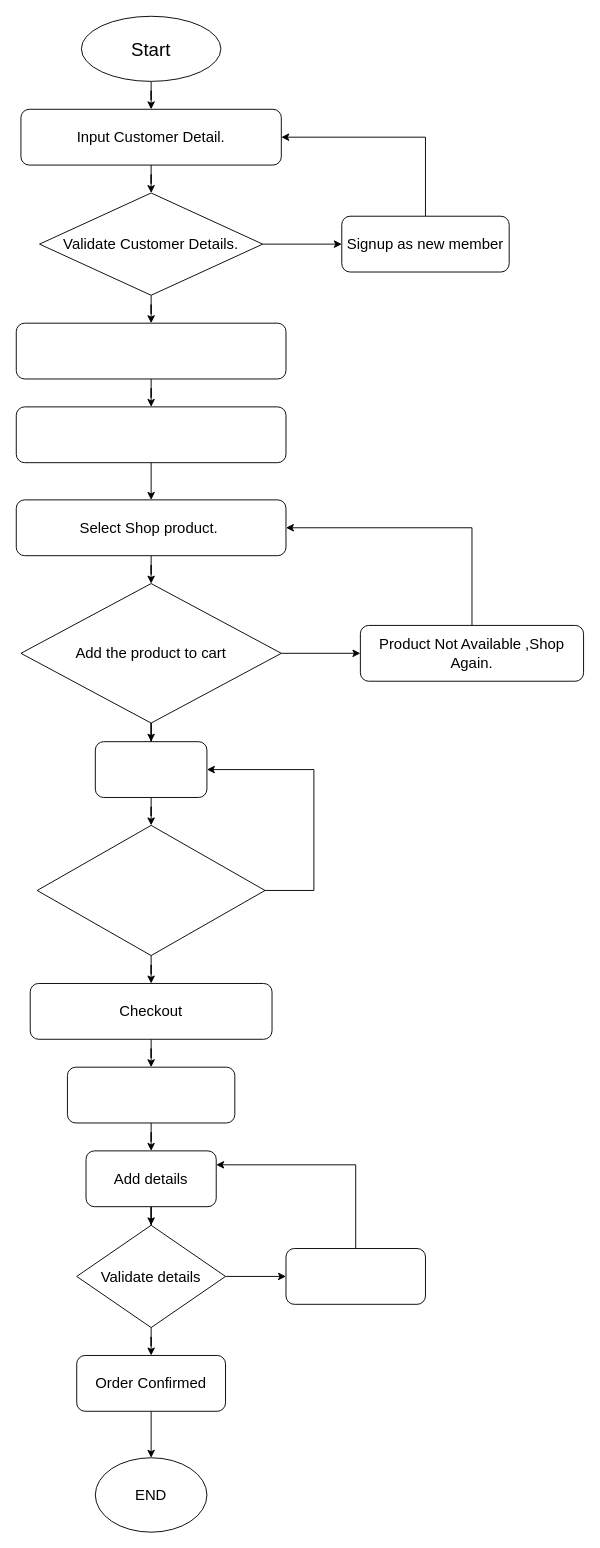
The diagram is 600 pixels wide and 1548 high, and some of its shapes have lost their labels. The centre of each missing label's shape, as x and y in pixels:
"Apply Discount if available." goes at point (150, 890).
"Browse Product." goes at point (150, 434).
"Login to account" goes at point (150, 350).
"Payment Failed" goes at point (355, 1276).
"Payment Method" goes at point (150, 1094).
"View Cart" goes at point (150, 769).
